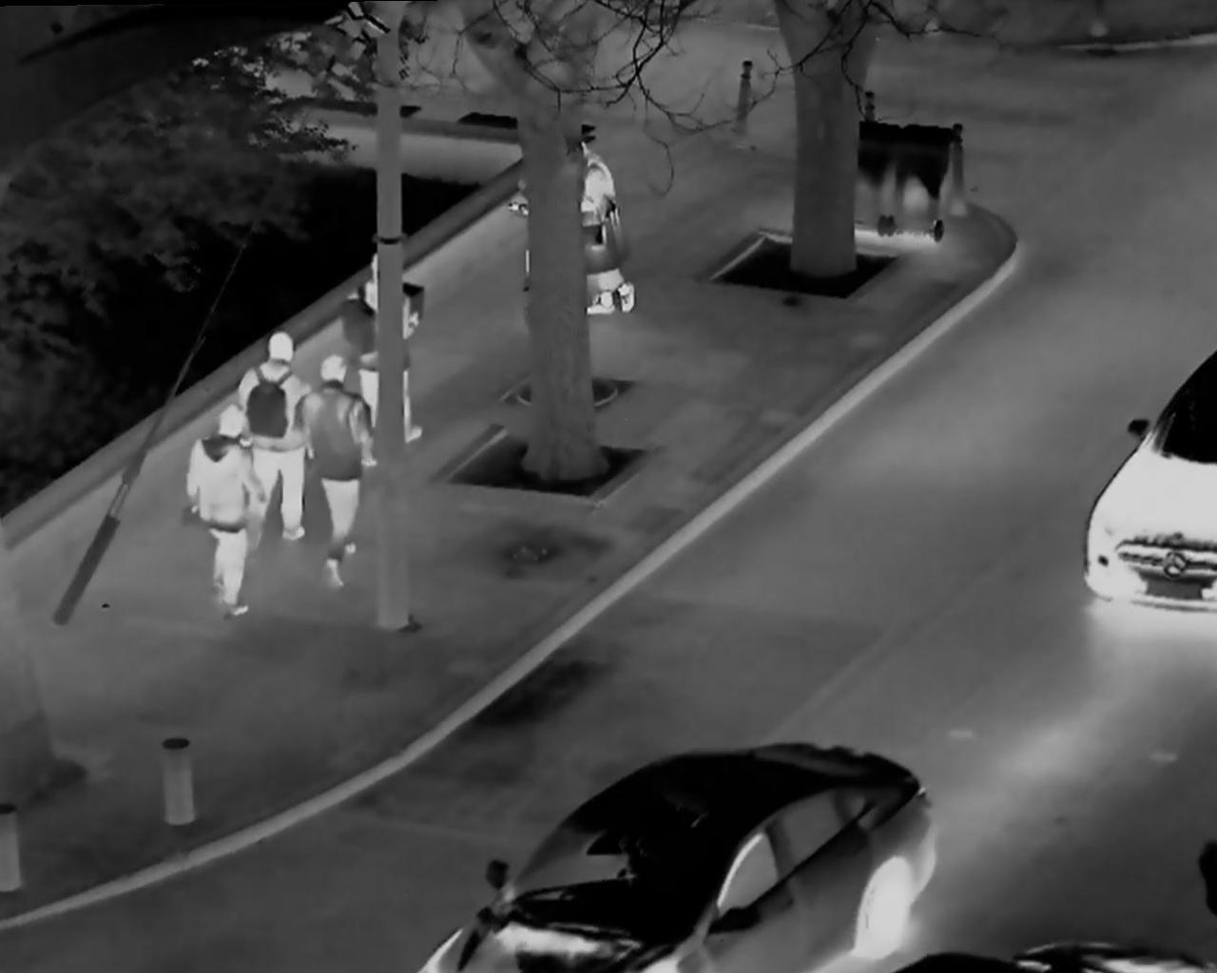person: (340, 249, 431, 464), (235, 321, 315, 543), (189, 406, 266, 636), (555, 132, 651, 315), (298, 352, 373, 582)
